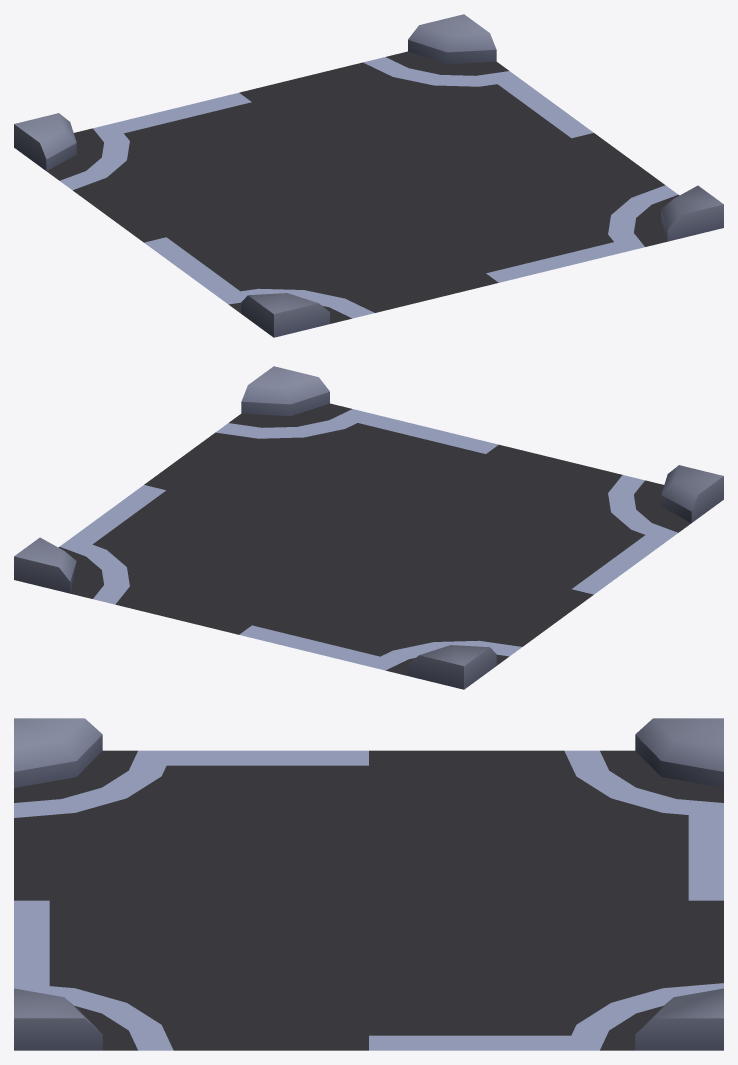
The model's file is citykit_road_intersection.glb.
3 renders of one model, top to bottom at view 1: azimuth 30°, elevation 25°; view 2: azimuth 150°, elevation 25°; view 3: azimuth 270°, elevation 25°, orthographic. The views are drawn at different scales.
Visible parts, largest first — view 1: road-intersection; view 2: road-intersection; view 3: road-intersection.
Part boxes in pixels (x1,y1,x2,y2): road-intersection: [14, 14, 723, 337]; road-intersection: [14, 366, 723, 689]; road-intersection: [14, 718, 723, 1050].
Bounding box in the file's own units: 1 × 0.05 × 1.
1 material, 1 textured.
